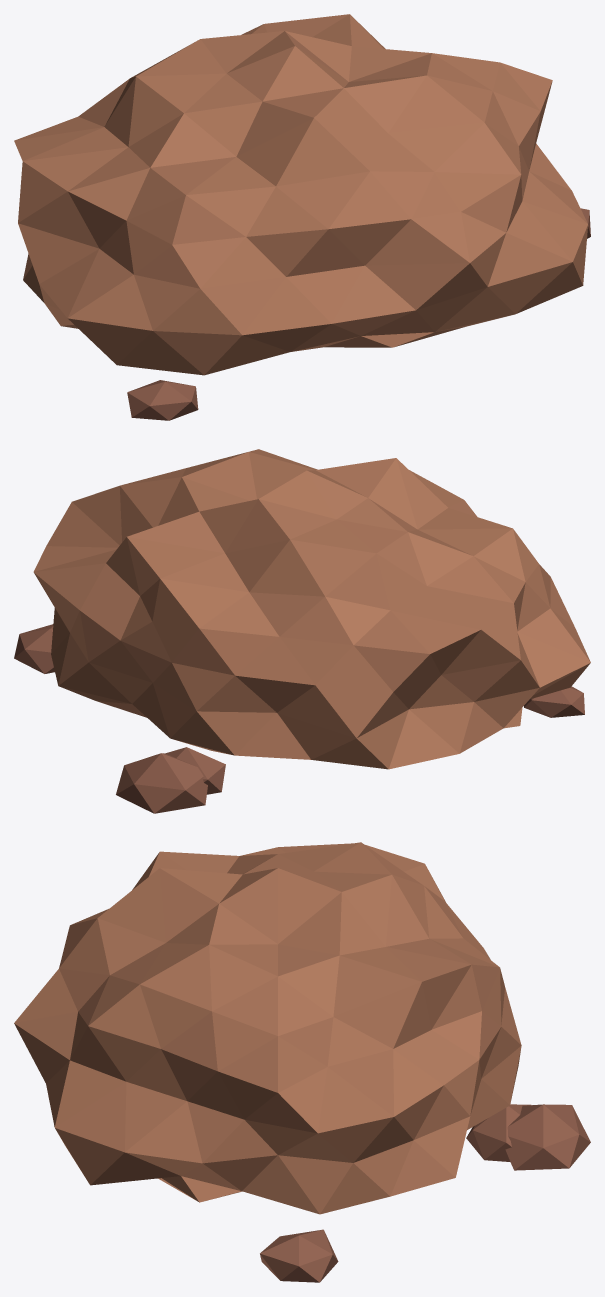
Rendered from mars_rock0.glb.
3 renders of one model, top to bottom at view 1: azimuth 30°, elevation 25°; view 2: azimuth 150°, elevation 25°; view 3: azimuth 270°, elevation 25°, orthographic. The views are drawn at different scales.
Visible parts, largest first — view 1: Rock; view 2: Rock; view 3: Rock.
Part boxes in pixels (box(x1,y1,x2,y2)): Rock: box(14, 14, 590, 420); Rock: box(14, 449, 590, 813); Rock: box(14, 842, 590, 1282).
Size of what is drawn, in the model's own units: 3.21 by 1.42 by 2.77.
